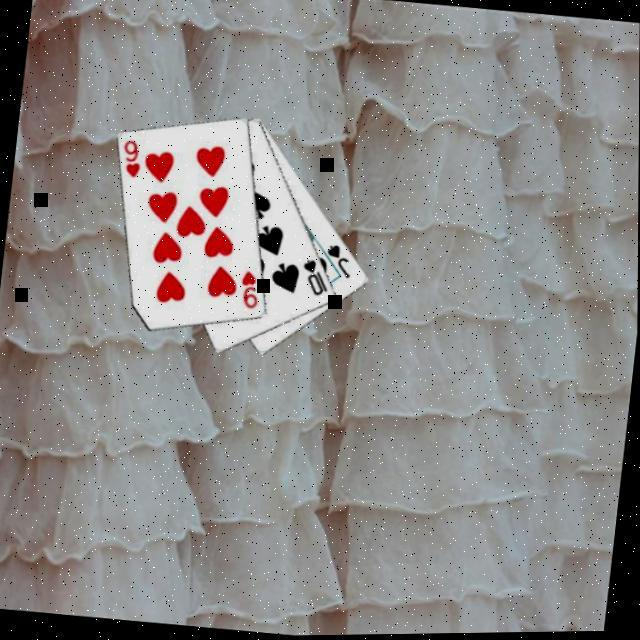10S: (296, 256, 332, 300)
9H: (117, 136, 145, 180), (235, 267, 262, 311)
JS: (321, 240, 356, 281)
